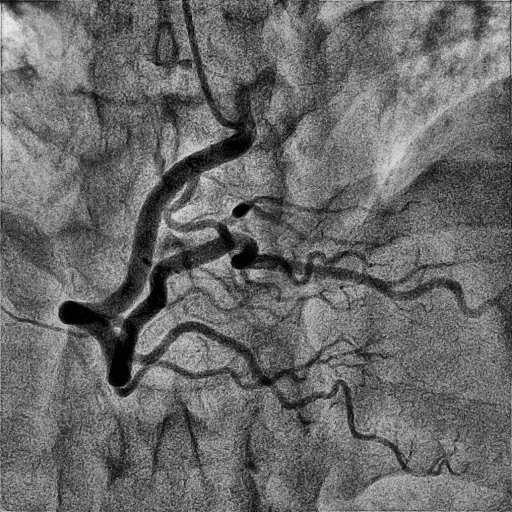pda: (230, 232, 509, 319)
rca: (58, 117, 258, 387)
